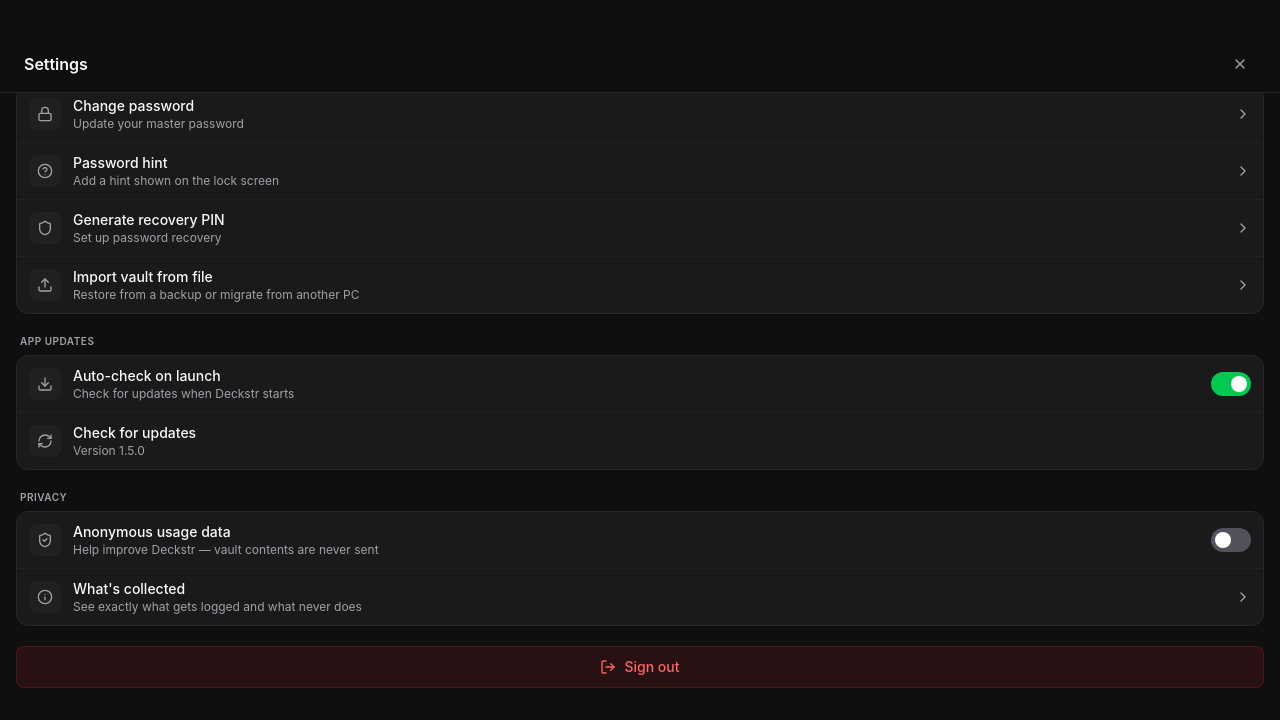
Test: SettingsModal — privacy › drills into the privacy details page and exposes the disclosure copy
(page scrolled)
Click the button "What's collected" at {"x": 45, "y": 596}, box x1=17 y1=568 x2=1263 y2=624
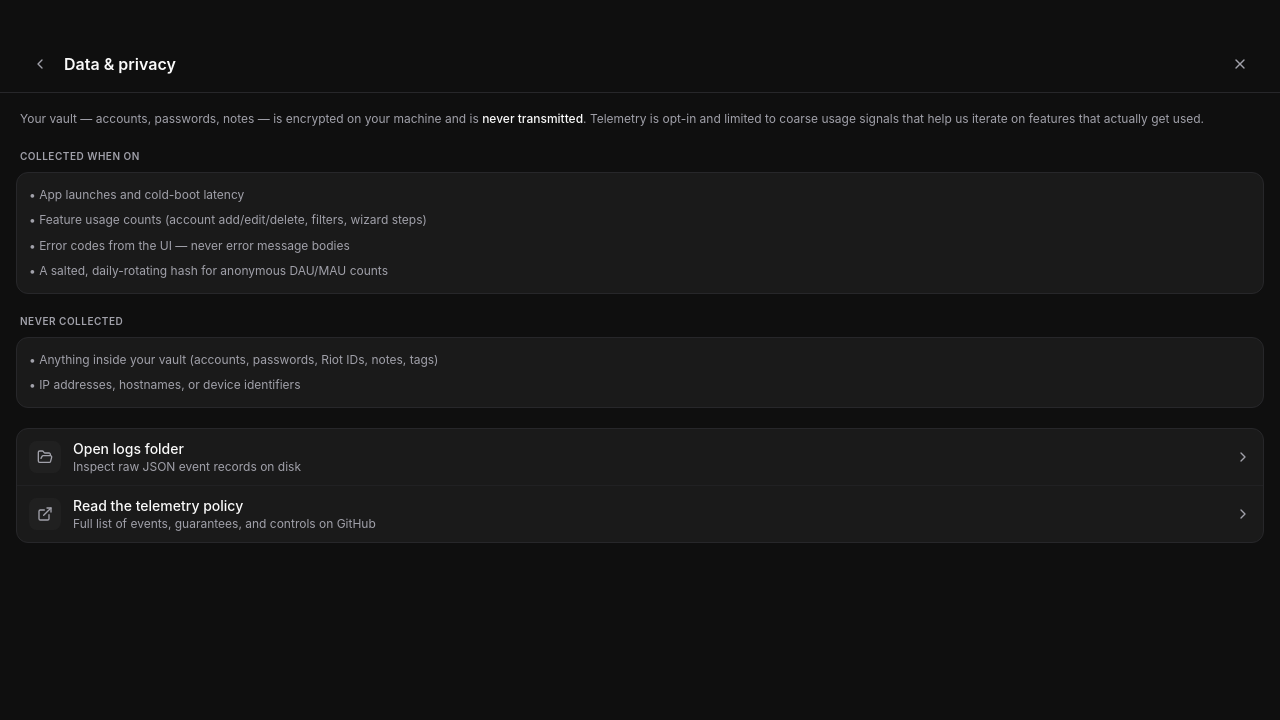
Expected: the heading "Data & privacy" is shown, x1=64 y1=52 x2=176 y2=76
Expected: the text "never transmitted" is shown, x1=482 y1=111 x2=583 y2=126
Expected: the text "Collected when on" is shown, x1=20 y1=150 x2=140 y2=162
